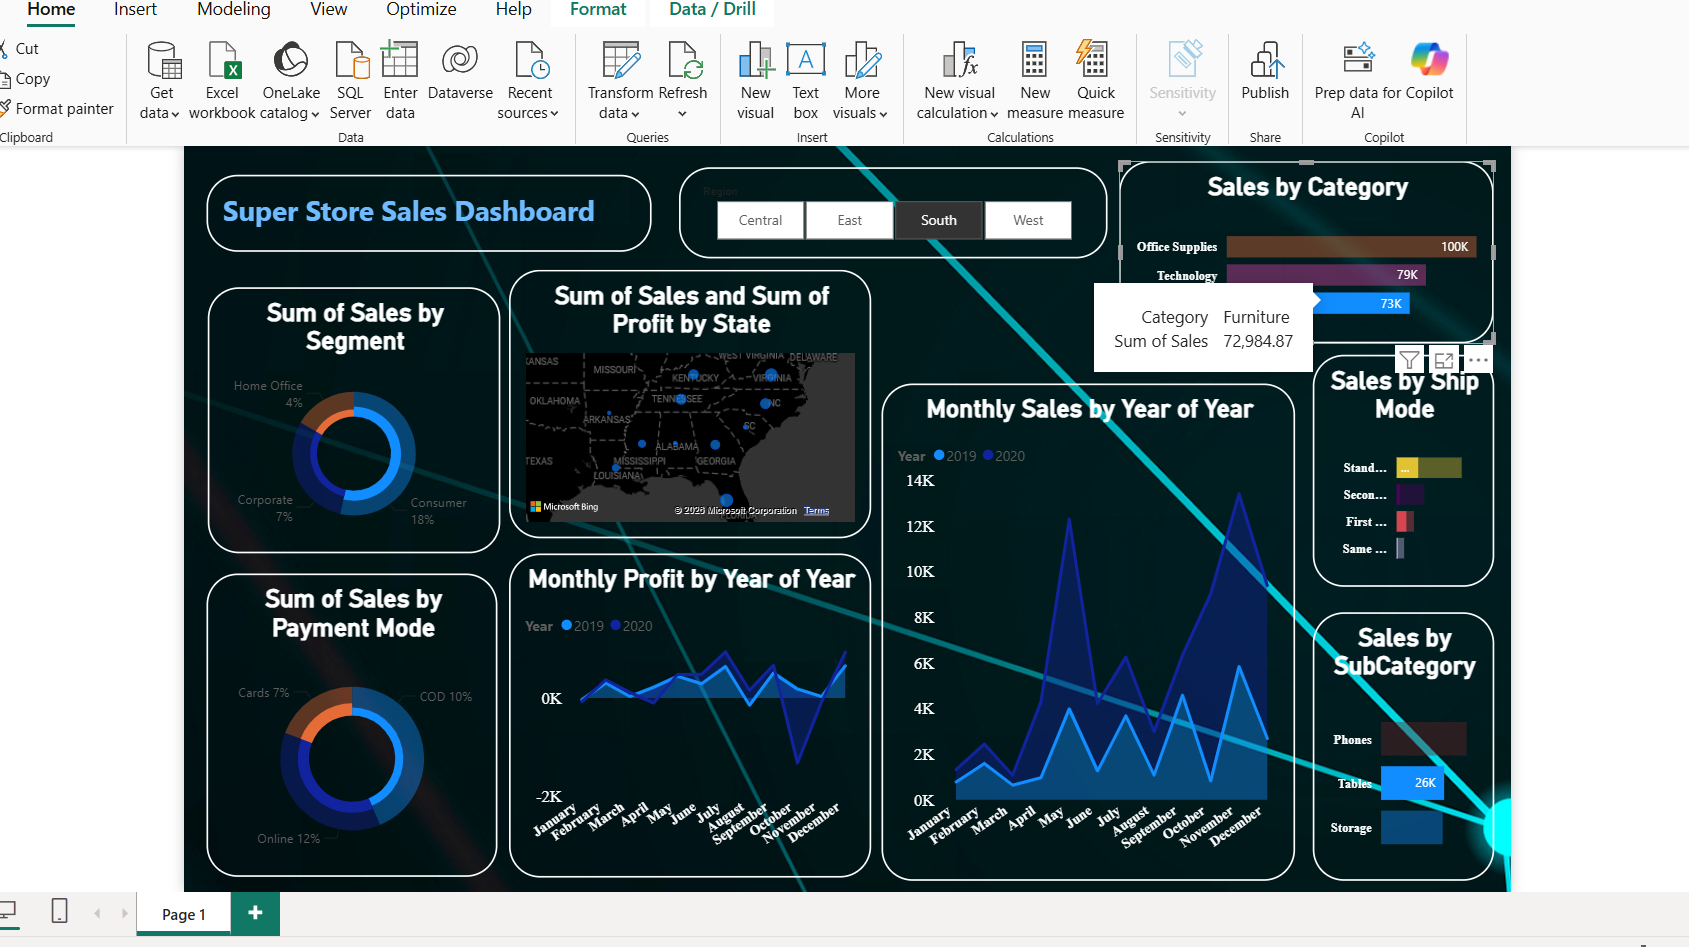

The page's visual inventory and layout, read from the dashboard file:
{"tool":"powerbi","page":{"name":"Page 1","canvas":[1280,720],"ordinal":0},"visuals":[{"type":"clusteredBarChart","title":"Sales by Category","fields":{"Category":["SuperStore_Sales_Dataset.Category"],"Y":["Sum(SuperStore_Sales_Dataset.Sales)"]},"box":[902.4,14.5,361.9,176.1],"z":0},{"type":"clusteredBarChart","title":"Sales by SubCategory","fields":{"Category":["SuperStore_Sales_Dataset.Sub-Category"],"Y":["Sum(SuperStore_Sales_Dataset.Sales)"]},"box":[1089.4,450,174.9,259.4],"z":1},{"type":"clusteredBarChart","title":"Sales by Ship Mode","fields":{"Category":["SuperStore_Sales_Dataset.Ship Mode"],"Y":["Sum(SuperStore_Sales_Dataset.Sales)"]},"box":[1089.4,201.5,174.9,224.4],"z":2},{"type":"stackedAreaChart","title":"Monthly Sales by Year of Year","fields":{"Y":["Sum(SuperStore_Sales_Dataset.Sales)"],"Category":["SuperStore_Sales_Dataset.Order Date.Variation.Date Hierarchy.Month","SuperStore_Sales_Dataset.Order Date.Variation.Date Hierarchy.Day"],"Series":["SuperStore_Sales_Dataset.Order Date.Variation.Date Hierarchy.Year"]},"box":[673.2,229.2,399.3,480.2],"z":3},{"type":"stackedAreaChart","title":"Monthly Profit by Year of Year","fields":{"Category":["SuperStore_Sales_Dataset.Order Date.Variation.Date Hierarchy.Month","SuperStore_Sales_Dataset.Order Date.Variation.Date Hierarchy.Day"],"Series":["SuperStore_Sales_Dataset.Order Date.Variation.Date Hierarchy.Year"],"Y":["Sum(SuperStore_Sales_Dataset.Profit)"]},"box":[313.7,393.3,349.9,312.5],"z":4},{"type":"map","fields":{"Category":["SuperStore_Sales_Dataset.State"],"Size":["Sum(SuperStore_Sales_Dataset.Sales)"]},"box":[313.7,119.4,349.9,259.4],"z":5},{"type":"donutChart","fields":{"Category":["SuperStore_Sales_Dataset.Payment Mode"],"Y":["Sum(SuperStore_Sales_Dataset.Sales)"]},"box":[21.7,412.6,281.1,293.2],"z":6},{"type":"slicer","fields":{"Values":["SuperStore_Sales_Dataset.Region"]},"box":[477.8,20.5,413.8,88.1],"z":8},{"type":"textbox","box":[21.7,27.7,429.5,74.8],"z":9},{"type":"donutChart","fields":{"Category":["SuperStore_Sales_Dataset.Segment"],"Y":["Sum(SuperStore_Sales_Dataset.Sales)"]},"box":[22.9,136.3,282.3,257],"z":10}]}

Visuals, with their boxes on the page's 1280x720 design canvas (x1, y1, x2, y2). These are canvas units, not pixel positions in the 1689x947 screenshot, which may show the page scaled, cropped or inside an application window:
"Sales by Category" clusteredBarChart: bbox(902, 14, 1264, 191)
"Sales by SubCategory" clusteredBarChart: bbox(1089, 450, 1264, 709)
"Sales by Ship Mode" clusteredBarChart: bbox(1089, 202, 1264, 426)
"Monthly Sales by Year of Year" stackedAreaChart: bbox(673, 229, 1072, 709)
"Monthly Profit by Year of Year" stackedAreaChart: bbox(314, 393, 664, 706)
map - SuperStore_Sales_Dataset.State x Sum(SuperStore_Sales_Dataset.Sales): bbox(314, 119, 664, 379)
donutChart - SuperStore_Sales_Dataset.Payment Mode x Sum(SuperStore_Sales_Dataset.Sales): bbox(22, 413, 303, 706)
slicer - SuperStore_Sales_Dataset.Region: bbox(478, 20, 892, 109)
textbox: bbox(22, 28, 451, 102)
donutChart - SuperStore_Sales_Dataset.Segment x Sum(SuperStore_Sales_Dataset.Sales): bbox(23, 136, 305, 393)
